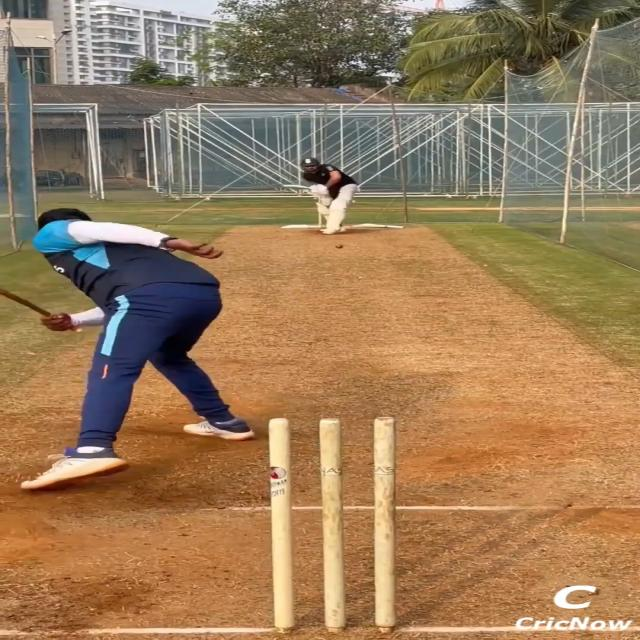ball: (334, 244, 344, 249)
stump: (262, 415, 400, 635)
